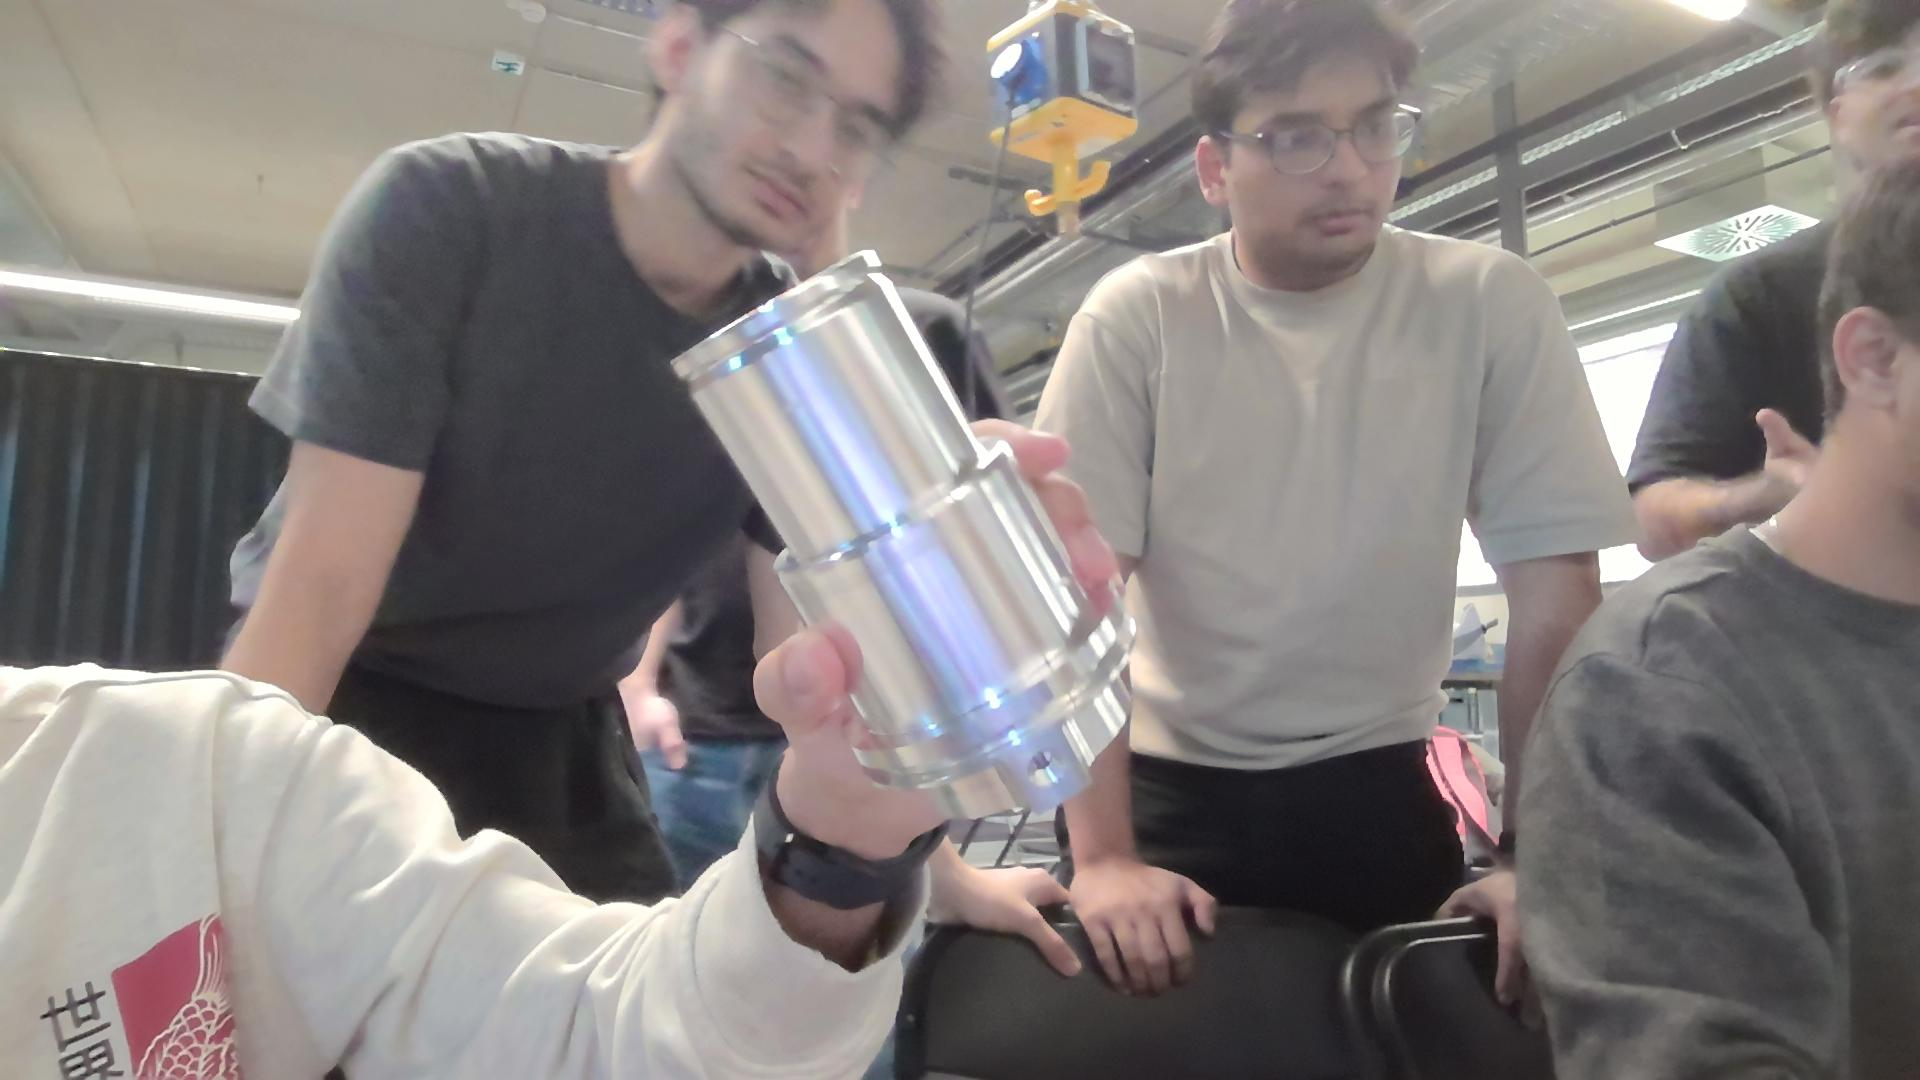objects: (646, 219, 1178, 836)
